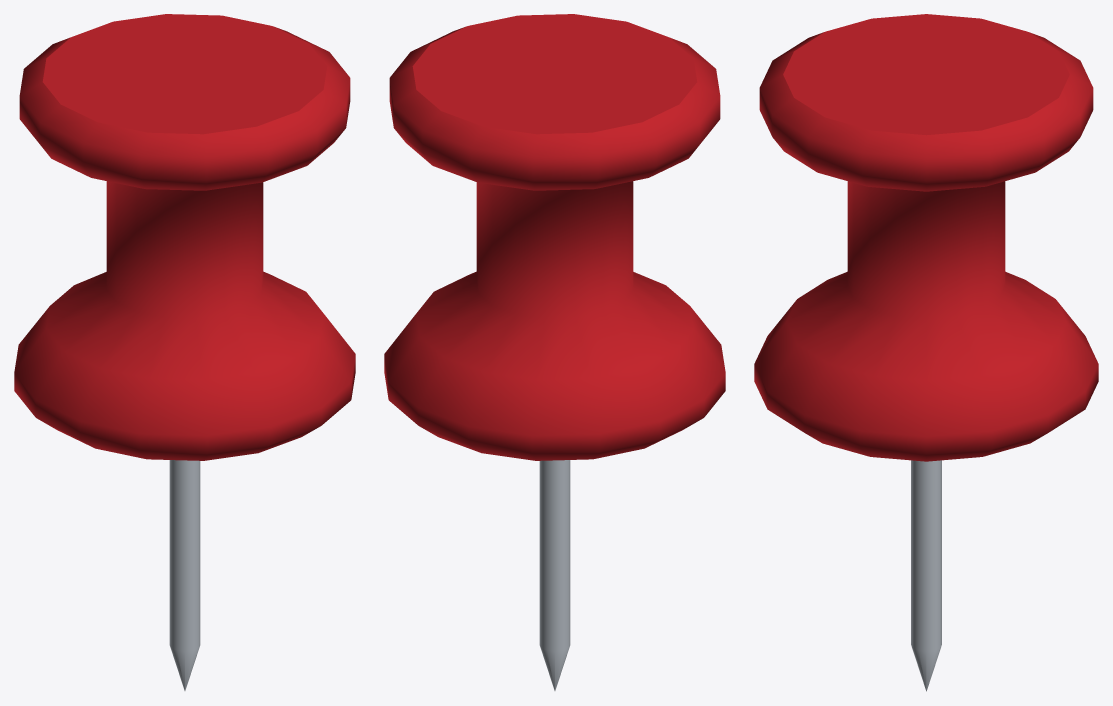
The model's file is pushpin_LOD2.glb.
3 renders of one model, left to right at view 1: azimuth 30°, elevation 25°; view 2: azimuth 150°, elevation 25°; view 3: azimuth 270°, elevation 25°, orthographic.
Visible parts, largest first — view 1: Molded_plastic_head, Embedded_steel_pin; view 2: Molded_plastic_head, Embedded_steel_pin; view 3: Molded_plastic_head, Embedded_steel_pin.
Boxes of the visible parts, bbox=[...] form: Molded_plastic_head: bbox=[14, 14, 355, 460]; Embedded_steel_pin: bbox=[169, 460, 200, 690]; Molded_plastic_head: bbox=[384, 14, 725, 460]; Embedded_steel_pin: bbox=[539, 460, 570, 690]; Molded_plastic_head: bbox=[754, 14, 1098, 461]; Embedded_steel_pin: bbox=[911, 460, 941, 691].
Bounding box in the file's own units: 0.0096 × 0.019 × 0.0096.
